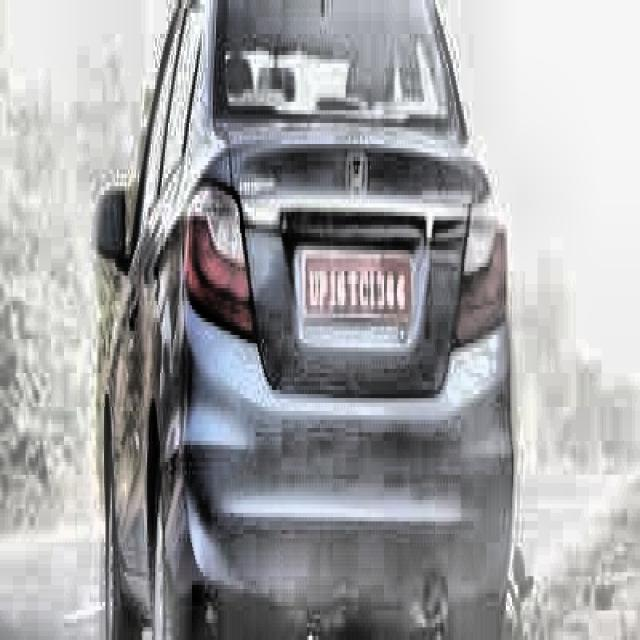license_plate: (303, 249, 412, 328)
